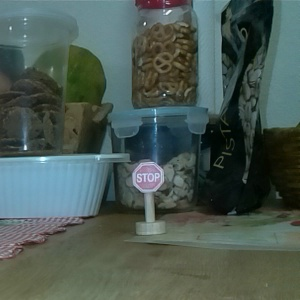stop sign: (130, 160, 168, 236)
